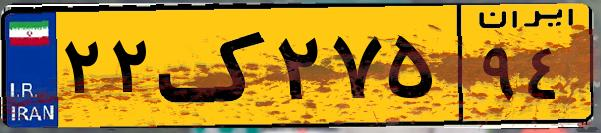2: (270, 28, 330, 110), (57, 26, 110, 100), (110, 28, 158, 98)
4: (525, 38, 570, 115)
5: (385, 28, 445, 110)
7: (330, 28, 385, 110)
9: (475, 38, 525, 113)
ک: (158, 12, 270, 120)
